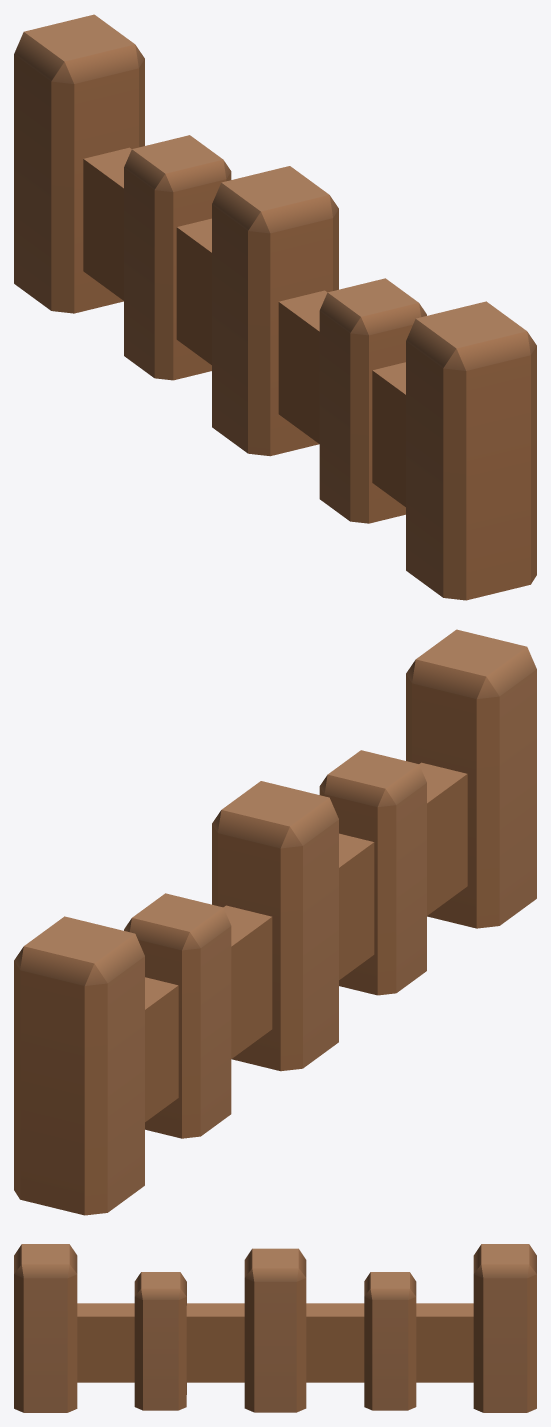
Rendered from Wall_Lv4_2.fbx.
The picture shows the model from 3 angles, top to bottom: view 1: azimuth 30°, elevation 25°; view 2: azimuth 150°, elevation 25°; view 3: azimuth 270°, elevation 25°; orthographic projection. The views are drawn at different scales.
Parts seen in each view (by area): view 1: Wall; view 2: Wall; view 3: Wall.
Boxes of the visible parts, box(x1,y1,x2,y2) form: Wall: box(14, 14, 536, 600); Wall: box(14, 629, 536, 1215); Wall: box(14, 1244, 536, 1412).
Size of the model in its own units: 0.184 by 0.465 by 1.52.
